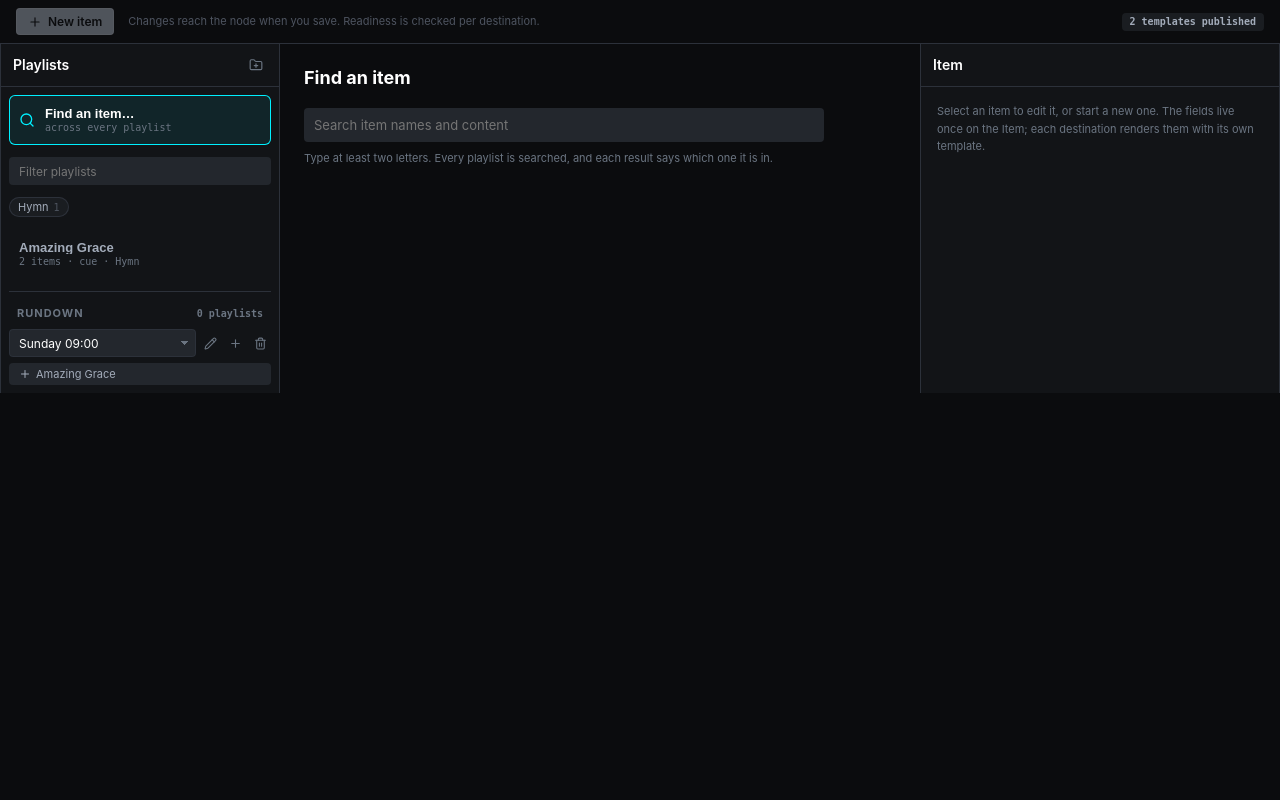
Scenario: a repeated item is one item in several places, and each place says so
The image size is (1280, 800).
Click the text "Amazing Grace" at (66, 248), box [19,240,114,255]
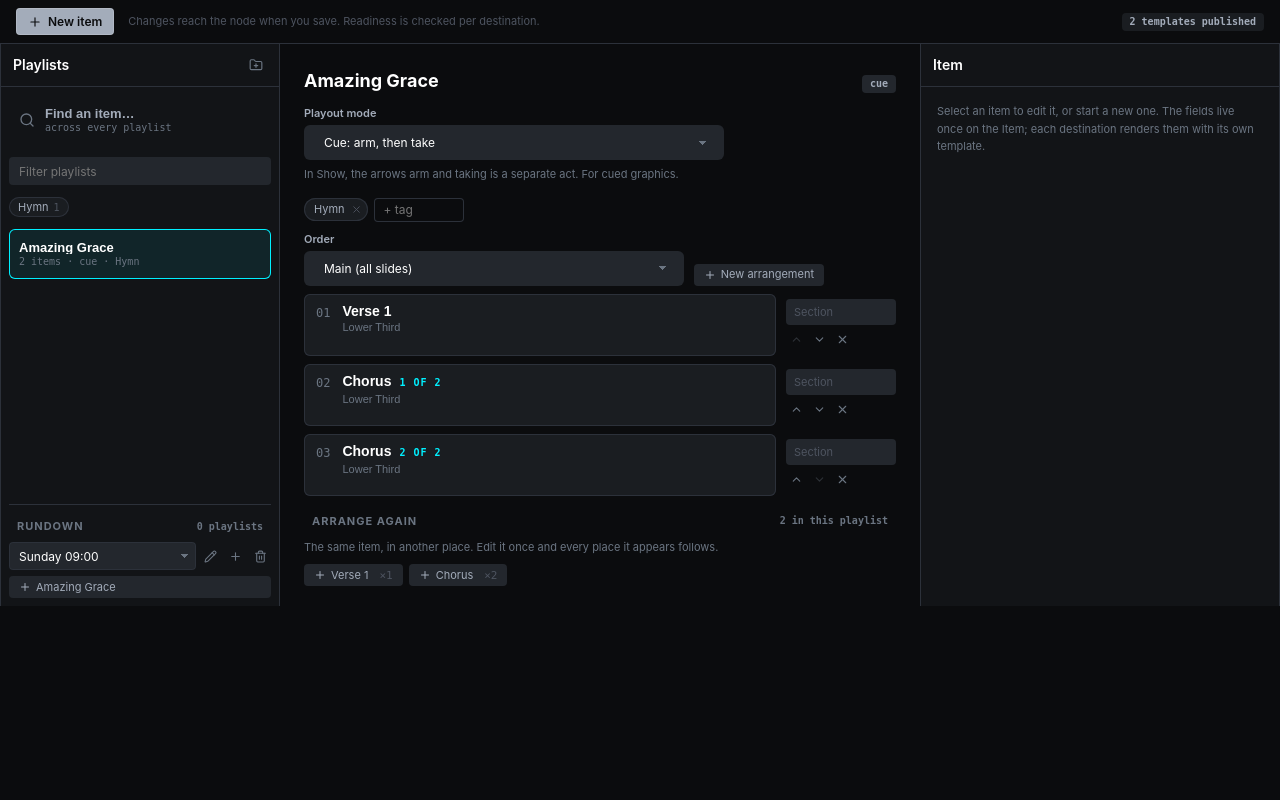
expect the field named "Playlist name" is shown: met, box [296,64,850,96]
expect the number of elements with class "edit-console__entry" is 3: met, box [304,294,896,356]; [304,364,896,426]; [304,434,896,496]
expect the text "1 of 2" is shown: met, box [400,377,442,388]
